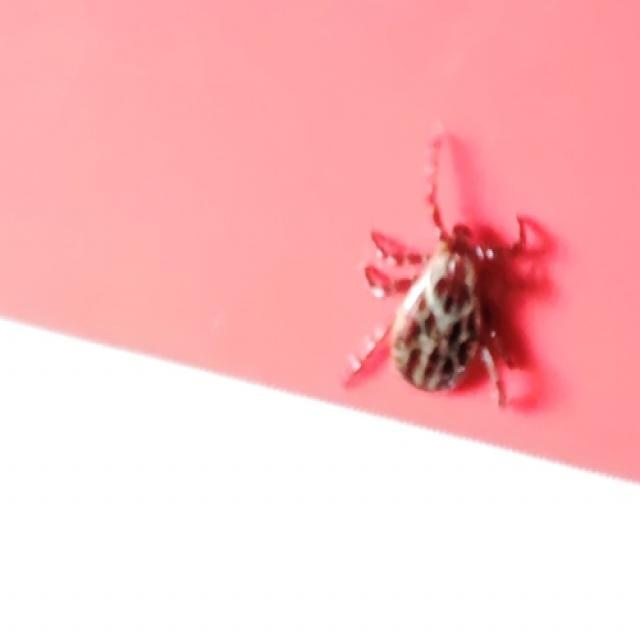Dermacentor Reticulatus-M: (346, 138, 527, 406)
